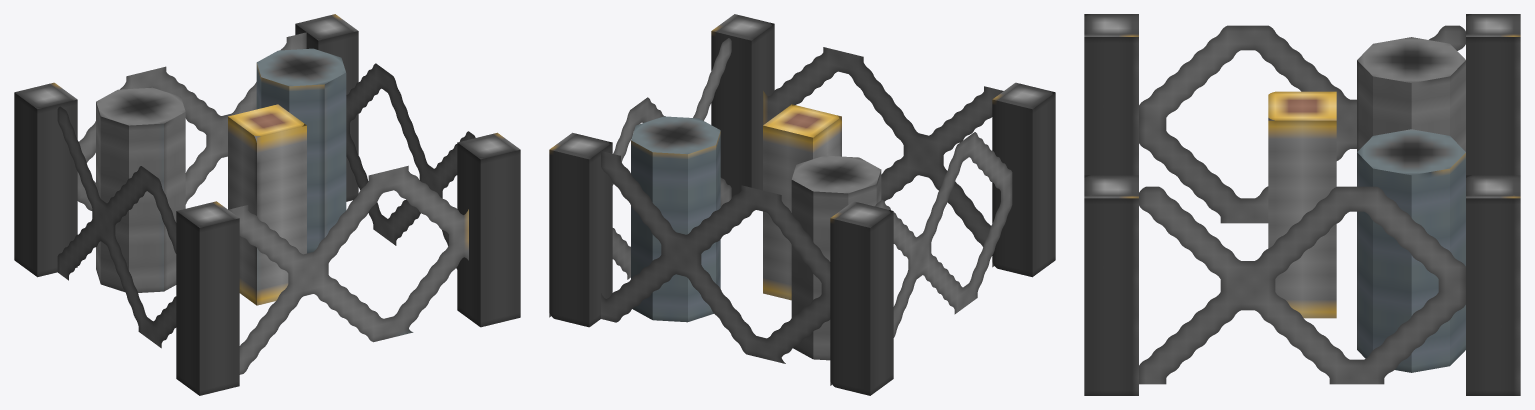
Rendered from launch_table_large_scaffold_base.obj.
The picture shows the model from 3 angles, left to right: view 1: azimuth 30°, elevation 25°; view 2: azimuth 150°, elevation 25°; view 3: azimuth 270°, elevation 25°; orthographic projection. The views are drawn at different scales.
Visible parts, largest first — view 1: Cube.003_Cube.004; view 2: Cube.003_Cube.004; view 3: Cube.003_Cube.004.
Boxes of the visible parts, x1=… form: Cube.003_Cube.004: x1=14, y1=14, x2=520, y2=395; Cube.003_Cube.004: x1=549, y1=14, x2=1055, y2=395; Cube.003_Cube.004: x1=1084, y1=14, x2=1520, y2=395.
Size of the model in its own units: 2 by 1 by 2.
